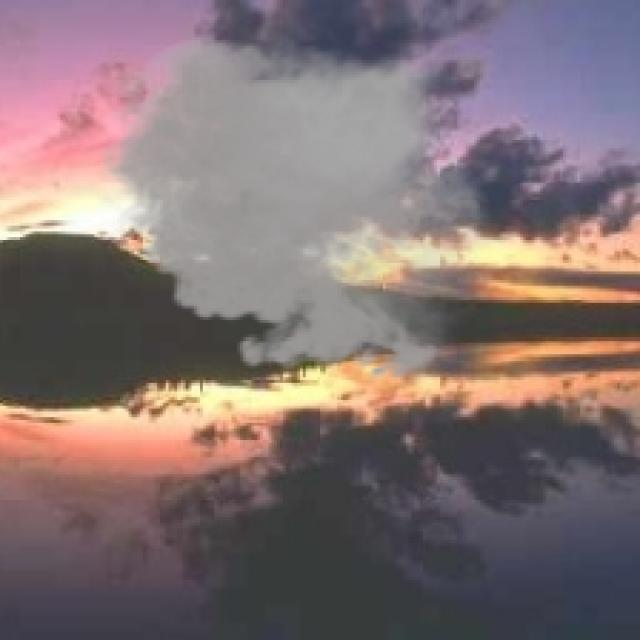Smoke: (86, 26, 506, 392)
